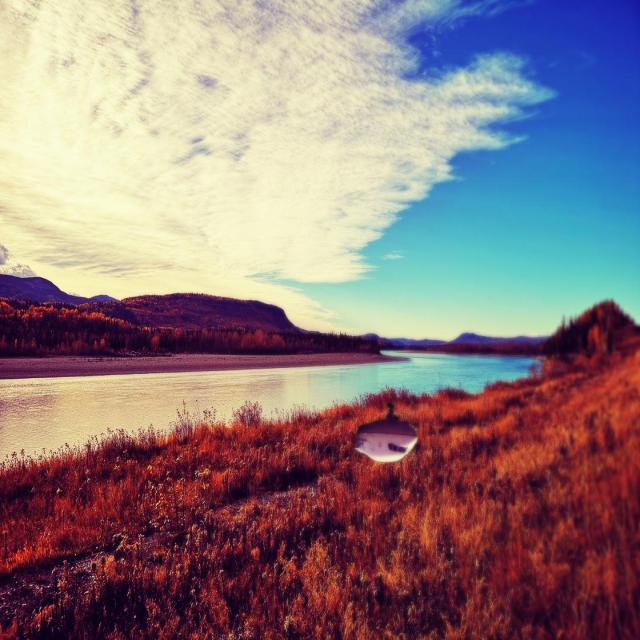airplane: (354, 402, 418, 464)
